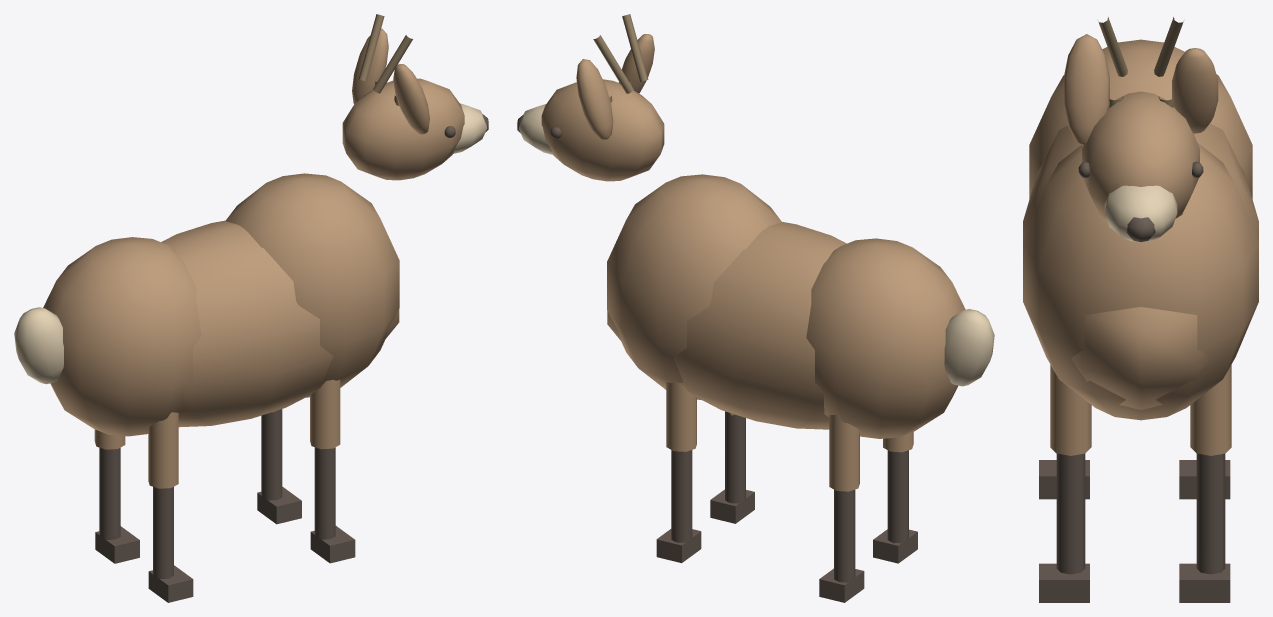
File: deer_01.gltf
3 views of the same model, side by side, from view 1: azimuth 30°, elevation 25°; view 2: azimuth 150°, elevation 25°; view 3: azimuth 270°, elevation 25° (orthographic). The views are drawn at different scales.
Parts seen in each view (by area): view 1: Rump, BodyRoot, Chest, HeadPivot, Tail, Upper_RR, Lower_FR, Lower_RL, Upper_FR, Lower_FL, Lower_RR, Ear_R (+7 smaller); view 2: Rump, BodyRoot, Chest, HeadPivot, Tail, Upper_RL, Lower_FL, Lower_RL, Lower_RR, Ear_L, Upper_FL, Lower_FR (+7 smaller); view 3: Chest, BodyRoot, HeadPivot, Rump, Ear_R, Lower_FL, Lower_FR, Ear_L, Muzzle, Upper_FL, Upper_FR, Hoof_FL (+6 smaller).
Boxes of the visible parts, <box> form: Rump: <box>43,237,201,436</box>; BodyRoot: <box>161,220,399,427</box>; Chest: <box>225,173,399,397</box>; HeadPivot: <box>342,78,464,180</box>; Tail: <box>14,307,63,384</box>; Upper_RR: <box>148,412,178,488</box>; Lower_FR: <box>314,447,335,539</box>; Lower_RL: <box>99,447,120,539</box>; Upper_FR: <box>310,379,340,449</box>; Lower_FL: <box>261,409,282,500</box>; Lower_RR: <box>153,487,173,578</box>; Ear_R: <box>393,64,429,134</box>; Rump: <box>806,238,965,438</box>; BodyRoot: <box>607,222,846,429</box>; Chest: <box>607,174,781,399</box>; HeadPivot: <box>541,79,664,181</box>; Tail: <box>944,309,994,386</box>; Upper_RL: <box>829,415,859,491</box>; Lower_FL: <box>671,450,692,542</box>; Lower_RL: <box>834,489,855,582</box>; Lower_RR: <box>887,450,908,543</box>; Ear_L: <box>576,59,613,140</box>; Upper_FL: <box>666,382,696,451</box>; Lower_FR: <box>725,411,745,503</box>; Chest: <box>1023,142,1258,420</box>; BodyRoot: <box>1023,100,1258,409</box>; HeadPivot: <box>1082,91,1199,218</box>; Rump: <box>1029,39,1252,198</box>; Ear_R: <box>1063,34,1109,145</box>; Lower_FL: <box>1196,453,1225,574</box>; Lower_FR: <box>1056,453,1085,574</box>; Ear_L: <box>1172,48,1218,133</box>; Muzzle: <box>1104,185,1177,242</box>; Upper_FL: <box>1190,365,1231,455</box>; Upper_FR: <box>1050,365,1091,455</box>; Hoof_FL: <box>1179,563,1230,602</box>.
Size of the model in its own units: 2.24 by 2.21 by 0.7409.
